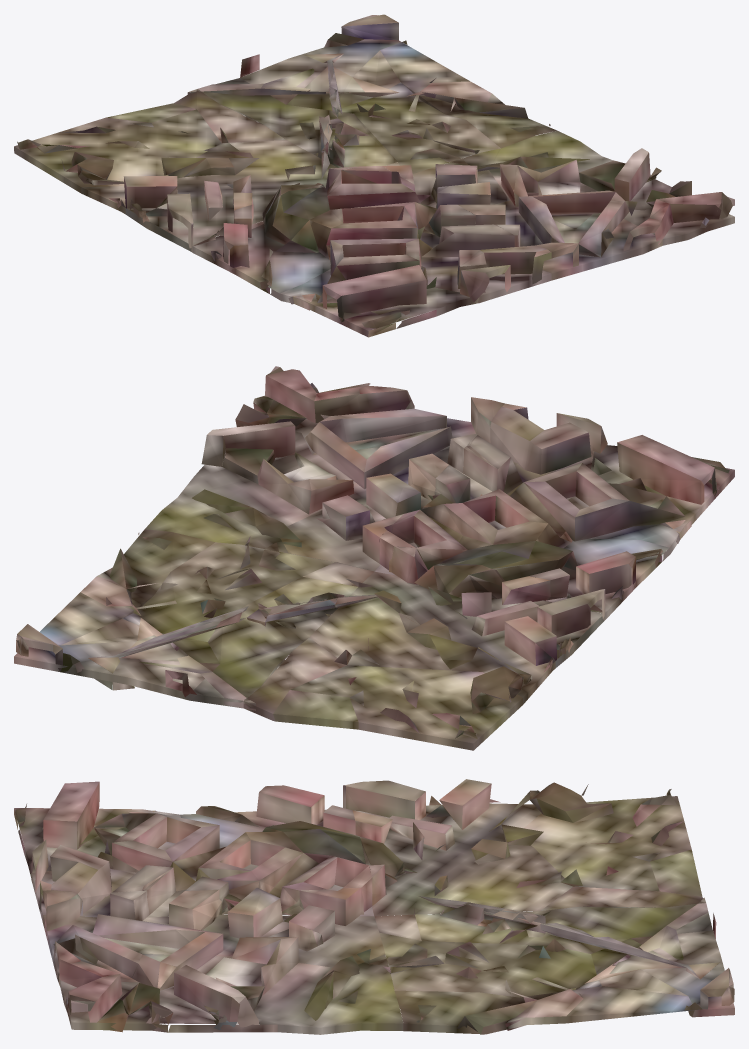
The picture shows the model from 3 angles, top to bottom: view 1: azimuth 30°, elevation 25°; view 2: azimuth 150°, elevation 25°; view 3: azimuth 270°, elevation 25°; orthographic projection. The views are drawn at different scales.
Parts seen in each view (by area): view 1: Mesh_0; view 2: Mesh_0; view 3: Mesh_0.
Part boxes in pixels (box(x1,y1,x2,y2)): Mesh_0: box(14, 14, 734, 337); Mesh_0: box(14, 366, 734, 750); Mesh_0: box(14, 779, 734, 1034).
Bounding box in the file's own units: 532 × 64.99 × 659.
2 materials, 2 textured.
